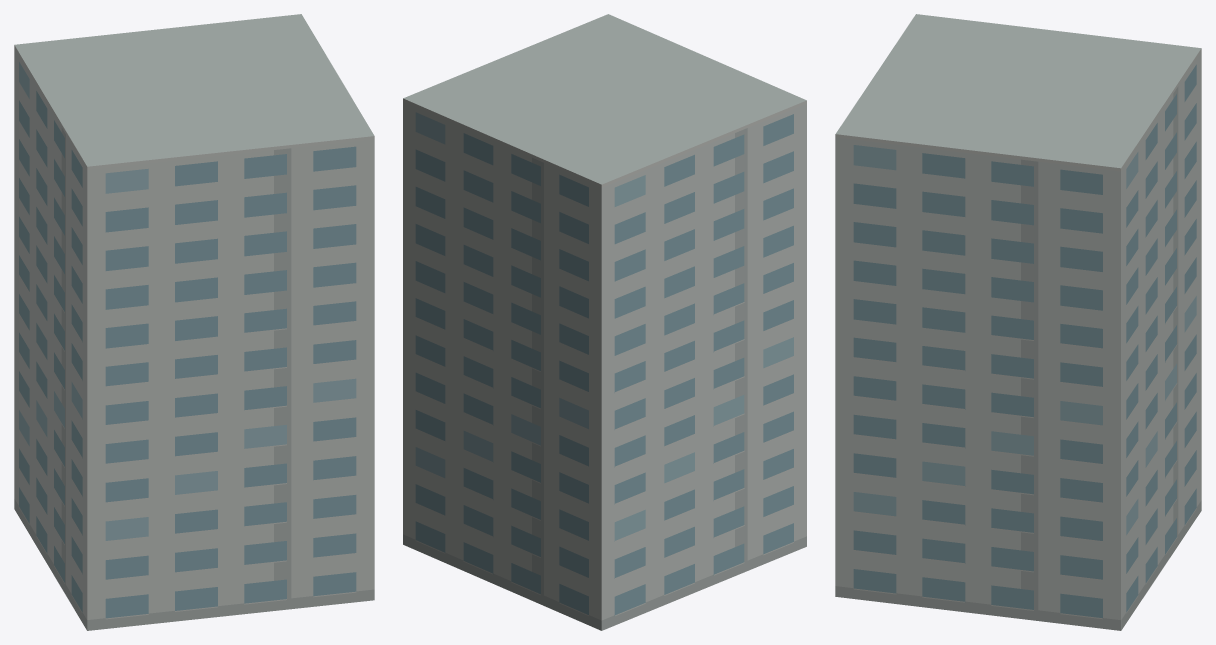
The model's file is residential-4de5c687-8cb4-4734-9395-f6b300785759.glb.
3 renders of one model, left to right at view 1: azimuth 30°, elevation 25°; view 2: azimuth 150°, elevation 25°; view 3: azimuth 270°, elevation 25°, orthographic. The views are drawn at different scales.
Visible parts, largest first — view 1: residential-4de5c687-8cb4-4734-9395-f6b300785759.tmp; view 2: residential-4de5c687-8cb4-4734-9395-f6b300785759.tmp; view 3: residential-4de5c687-8cb4-4734-9395-f6b300785759.tmp.
Boxes of the visible parts, x1,y1,x2,y2 form: residential-4de5c687-8cb4-4734-9395-f6b300785759.tmp: [14, 14, 374, 630]; residential-4de5c687-8cb4-4734-9395-f6b300785759.tmp: [403, 14, 806, 630]; residential-4de5c687-8cb4-4734-9395-f6b300785759.tmp: [835, 14, 1201, 630].
Bounding box in the file's own units: 24.32 × 34 × 24.39.
